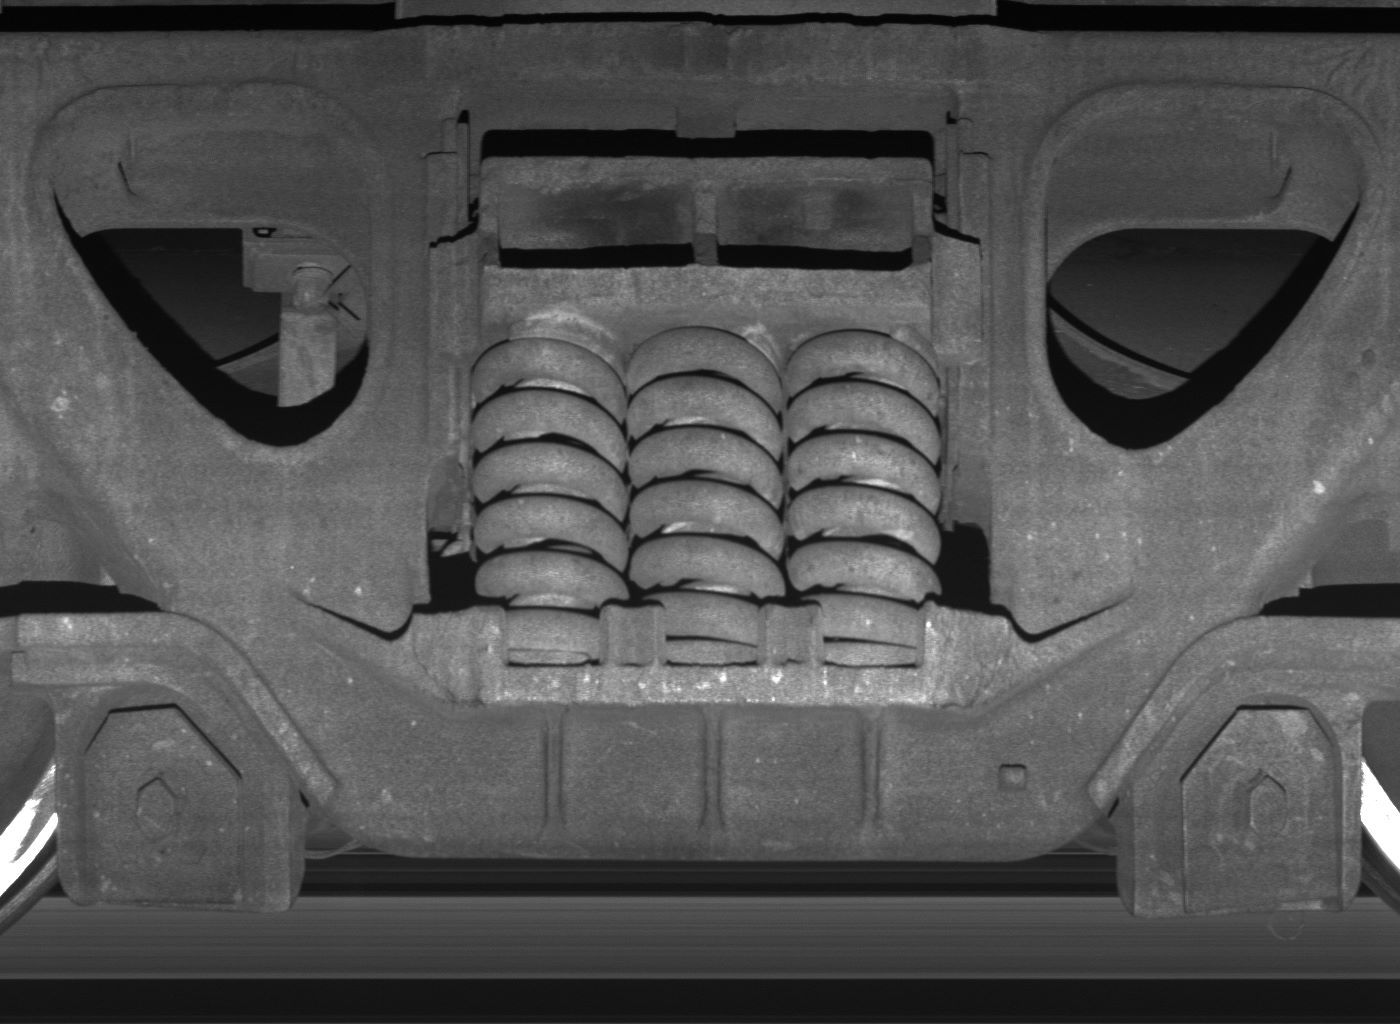normal: (1132, 673, 1362, 921), (57, 685, 293, 912)
